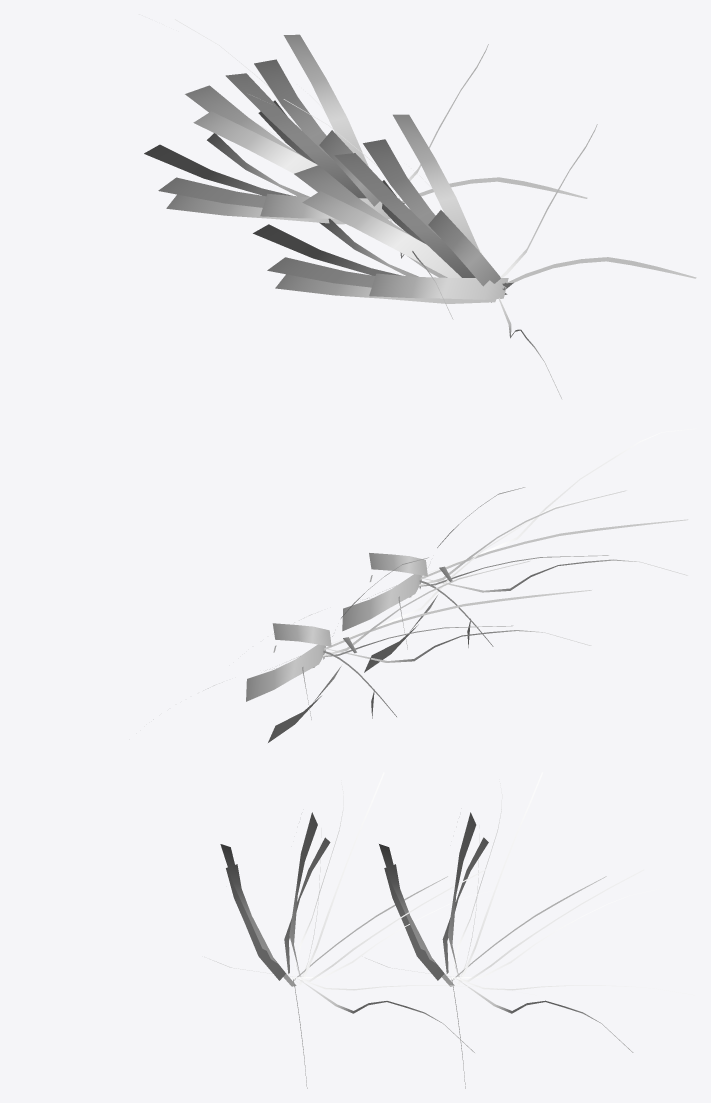
File: TRACK_FIRE_R.glb
3 renders of one model, top to bottom at view 1: azimuth 30°, elevation 25°; view 2: azimuth 150°, elevation 25°; view 3: azimuth 270°, elevation 25°, orthographic. The views are drawn at different scales.
Parts seen in each view (by area): view 1: F0_ROT0, F1_ROT0, F0_ROT1, F1_ROT1; view 2: F1_ROT0, F0_ROT0, F0_ROT1, F1_ROT1; view 3: F0_ROT0, F1_ROT0, F1_ROT1, F0_ROT1.
Part boxes in pixels (<box>): F0_ROT0: <box>253,114,513,303</box>; F1_ROT0: <box>144,34,404,224</box>; F0_ROT1: <box>249,94,696,399</box>; F1_ROT1: <box>139,14,587,319</box>; F1_ROT0: <box>246,623,374,742</box>; F0_ROT0: <box>342,553,470,672</box>; F0_ROT1: <box>294,428,696,649</box>; F1_ROT1: <box>153,499,599,719</box>; F0_ROT0: <box>220,812,330,986</box>; F1_ROT0: <box>379,812,488,986</box>; F1_ROT1: <box>366,772,694,1088</box>; F0_ROT1: <box>210,772,536,1088</box>.
Bounding box in the file's own units: 16.14 × 6.67 × 23.36.
Materials: 4 (4 with a texture image).
